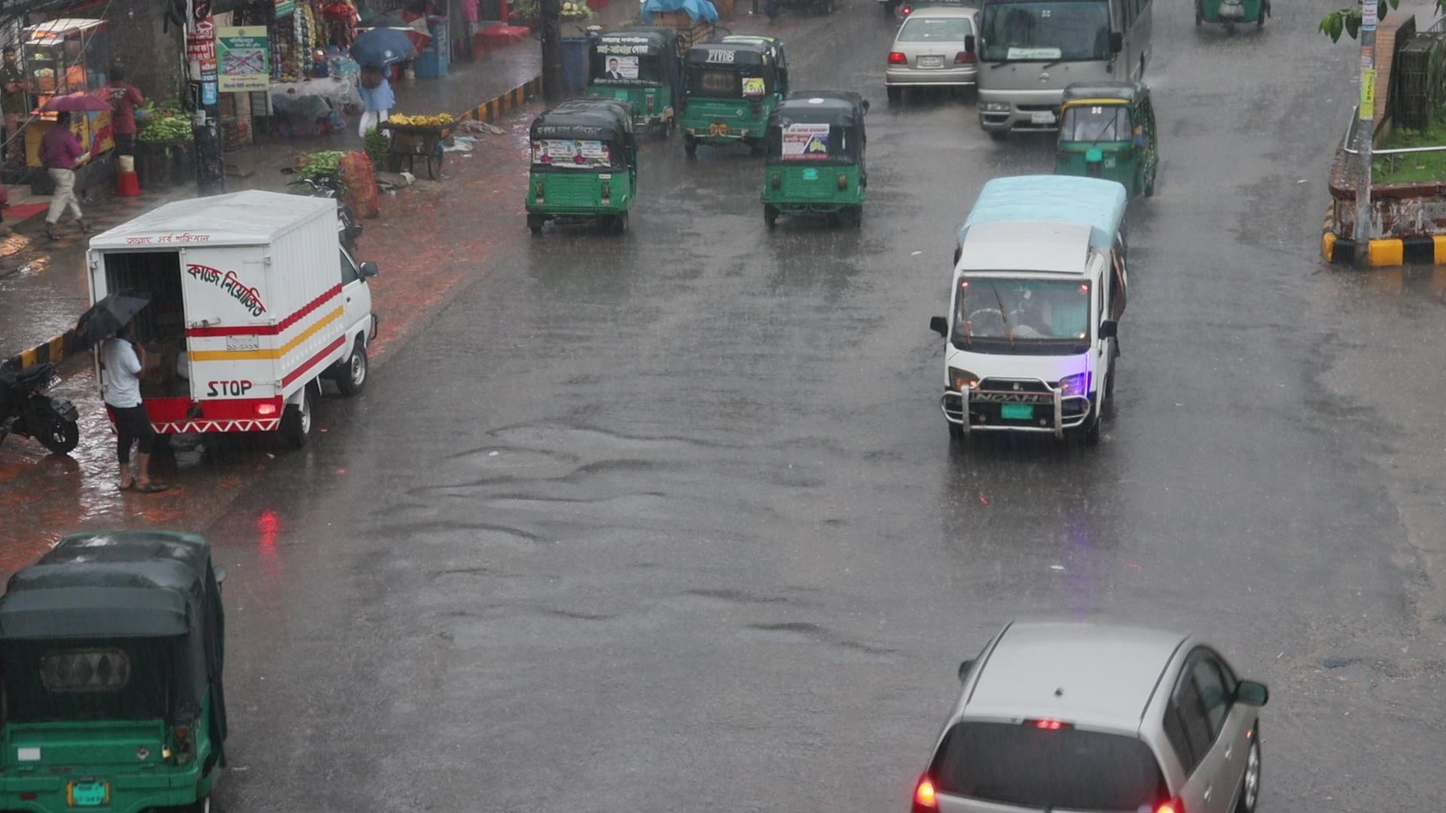Car: (903, 600, 1274, 813), (880, 0, 979, 107)
Truck: (932, 171, 1132, 457)
